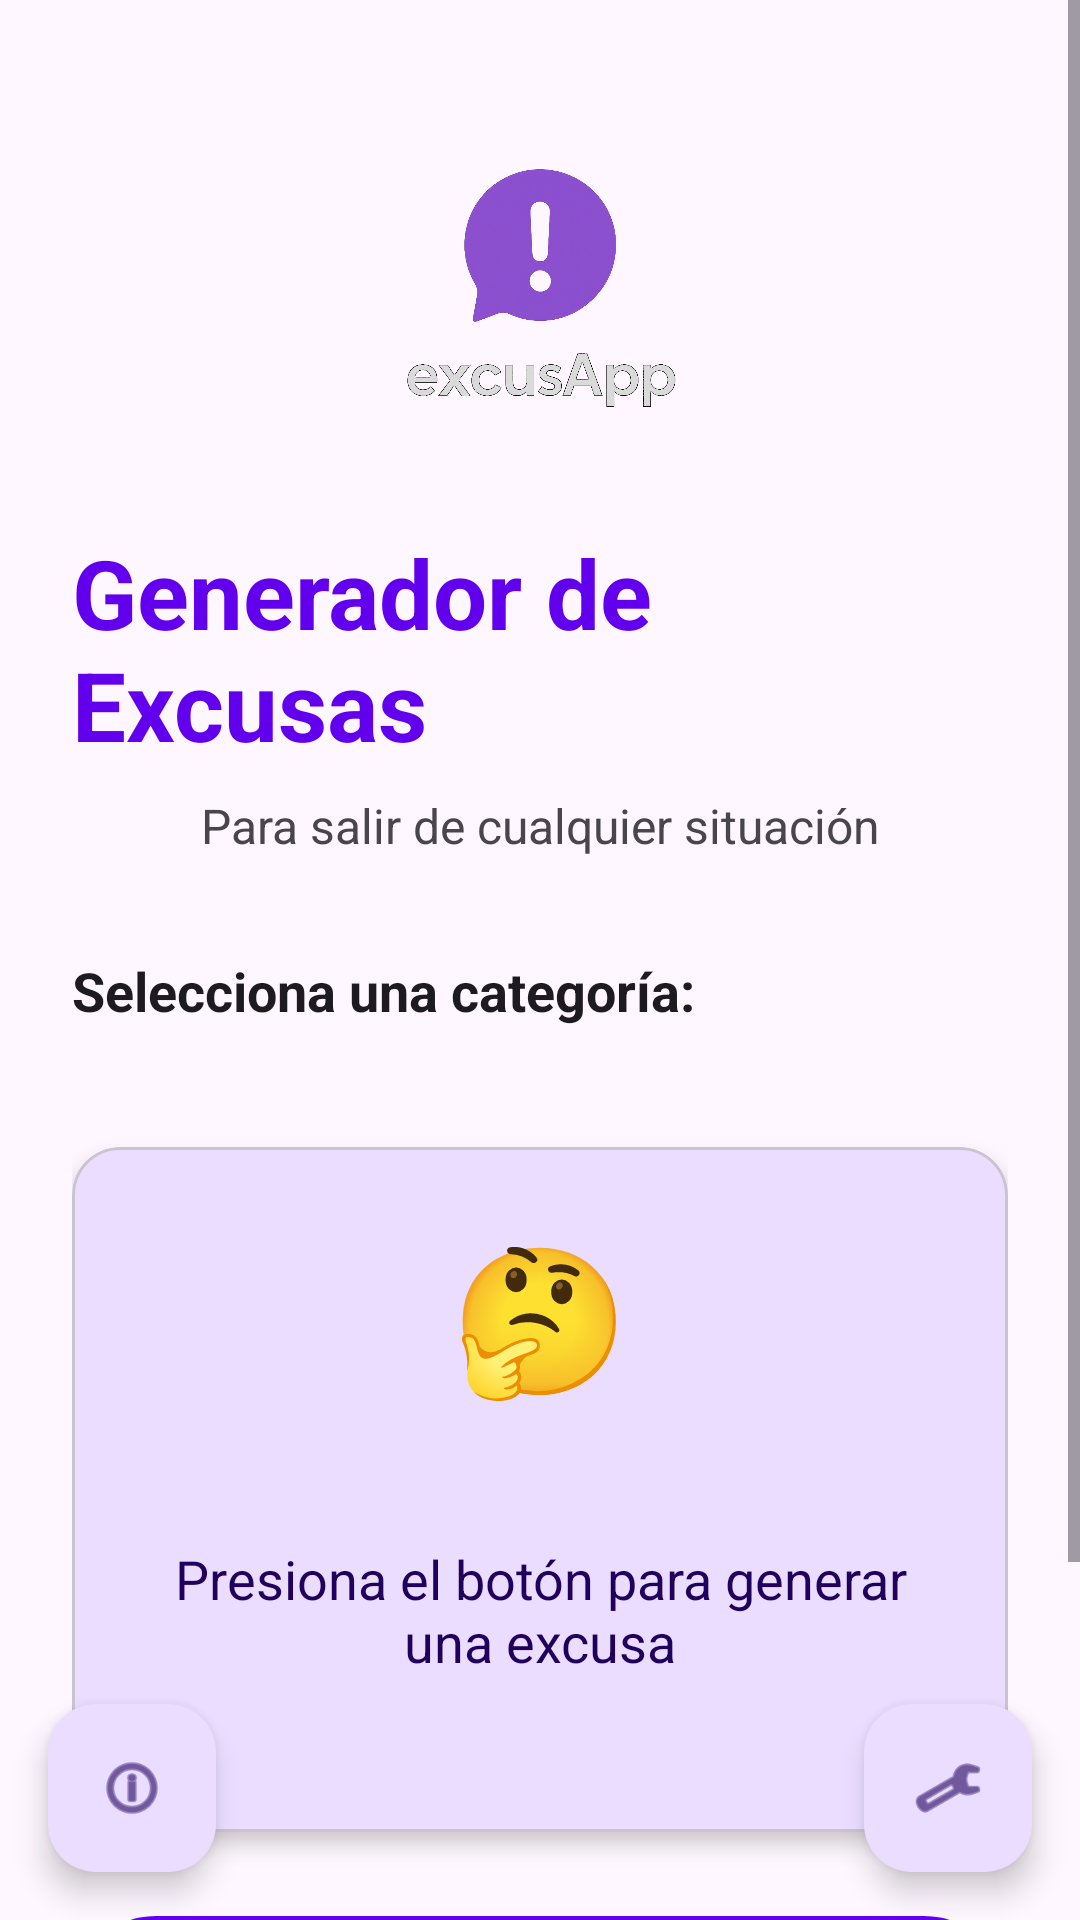

Screen size 1080*1920. Icon name, then its box in pixels as (x1, y1, x2, y2):
Acerca de: (106, 1762, 158, 1814)
Configuración: (915, 1763, 980, 1813)
